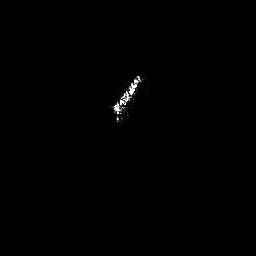ship: (109, 70, 147, 125)
